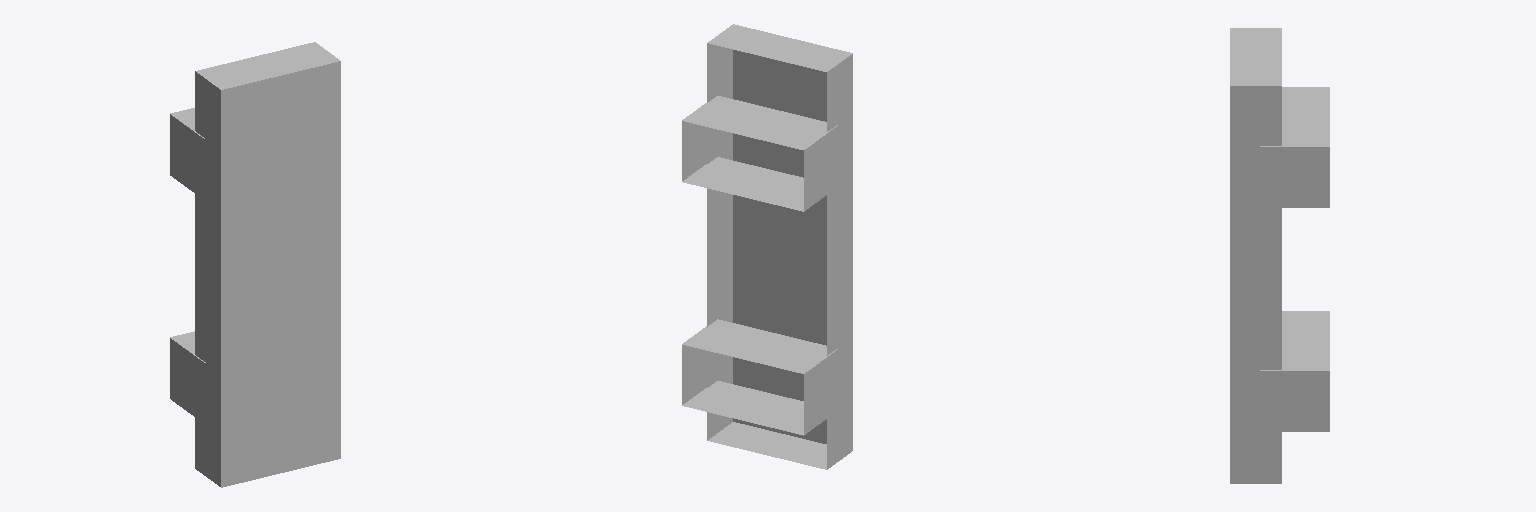
File: bench.obj
3 views of the same model, side by side, from view 1: azimuth 30°, elevation 25°; view 2: azimuth 150°, elevation 25°; view 3: azimuth 270°, elevation 25° (orthographic).
Parts seen in each view (by area): view 1: scifibench_Cube.001; view 2: scifibench_Cube.001; view 3: scifibench_Cube.001.
Boxes of the visible parts, box(x1,y1,x2,y2) form: scifibench_Cube.001: box(170, 42, 340, 487); scifibench_Cube.001: box(682, 24, 852, 469); scifibench_Cube.001: box(1230, 28, 1329, 483).
Size of the model in its own units: 1.39 by 4.31 by 0.9911.